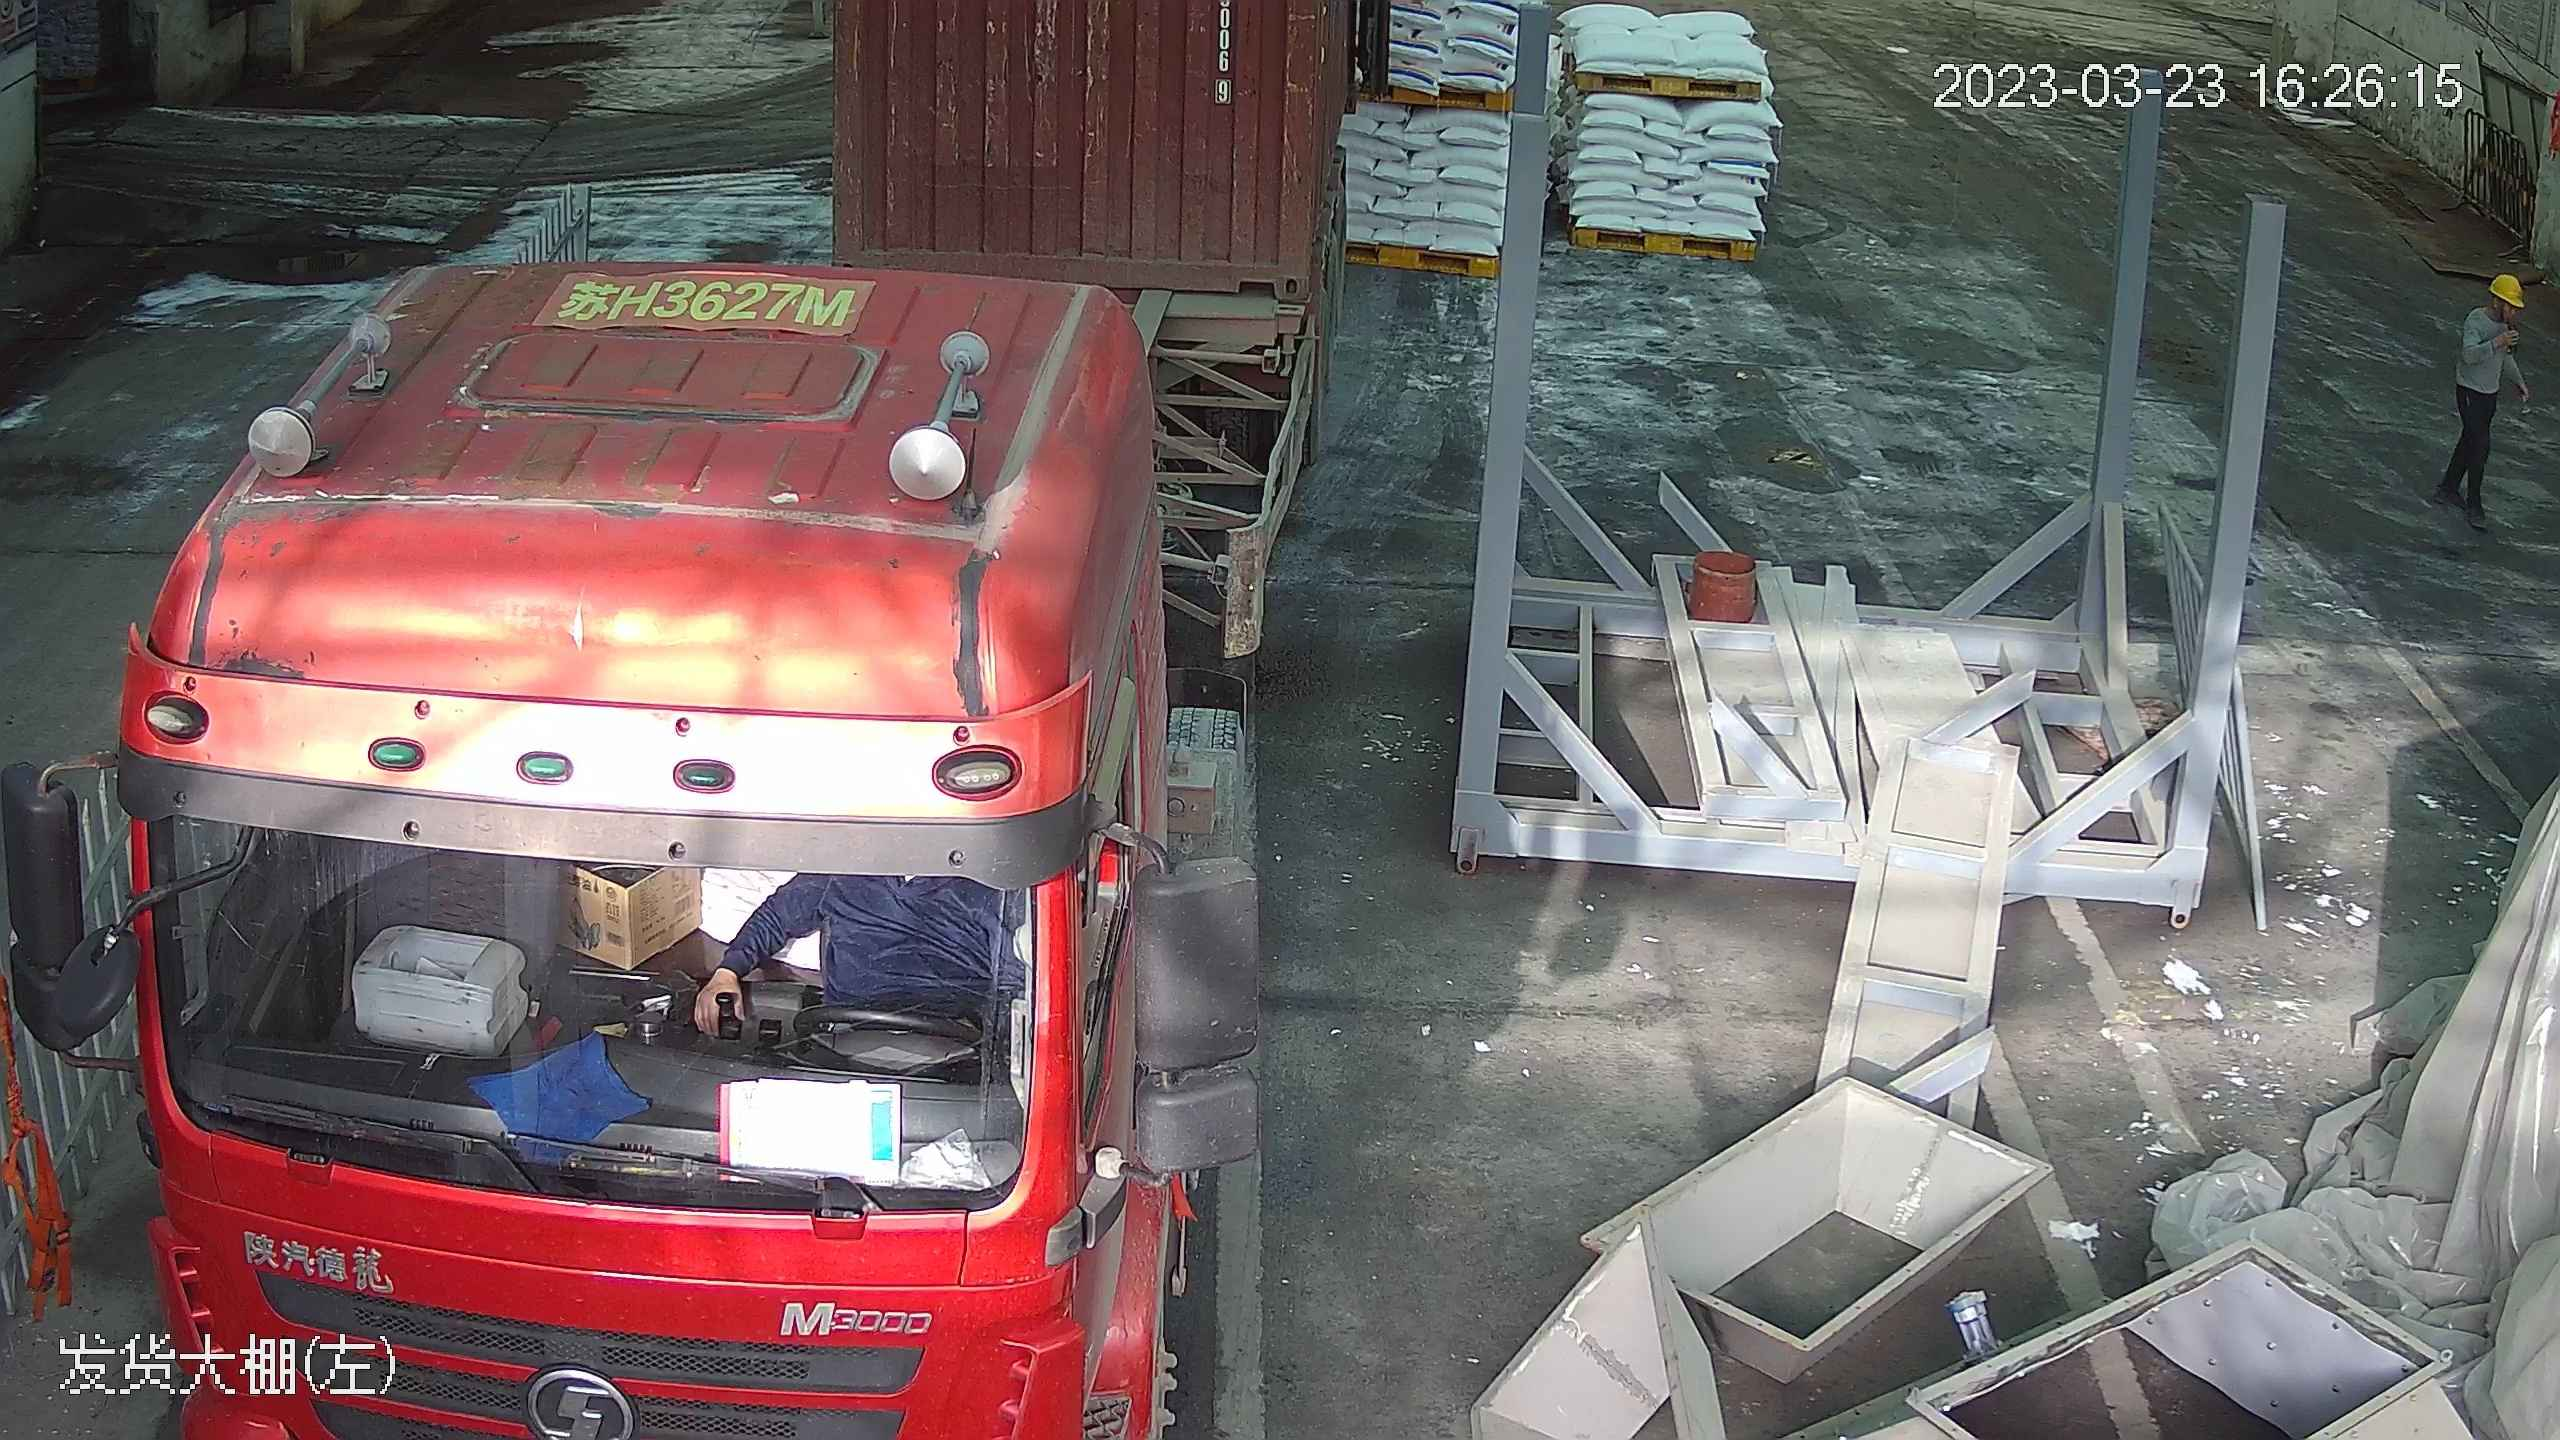head: (2462, 270, 2528, 356)
helmet: (2486, 271, 2524, 307)
people: (2433, 268, 2534, 516)
truck: (10, 0, 1292, 1440)
